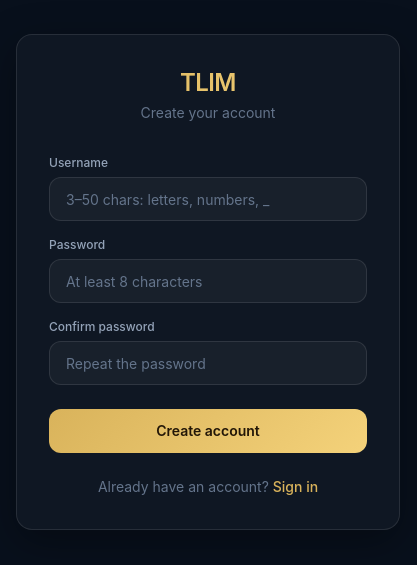
Test: RegisterPage › shows the server message (e.g. username taken)
In the field labelled "Username": [208, 199] box 49,177 -> 367,221, type "tester"
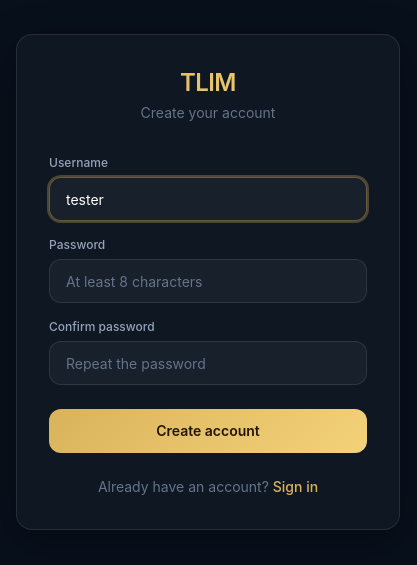
In the password field labelled "Password": [208, 281] box 49,259 -> 367,303, type "long-enough"
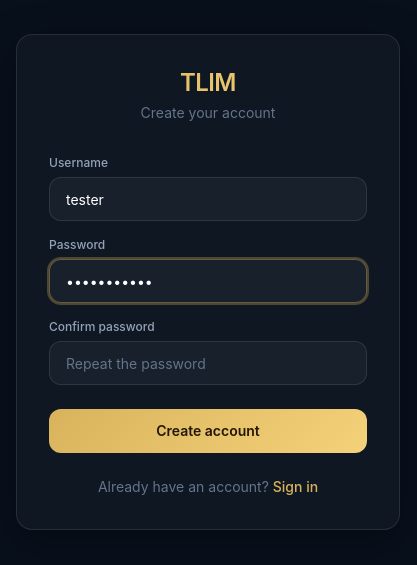
In the password field labelled "Confirm password": [208, 363] box 49,341 -> 367,385, type "long-enough"
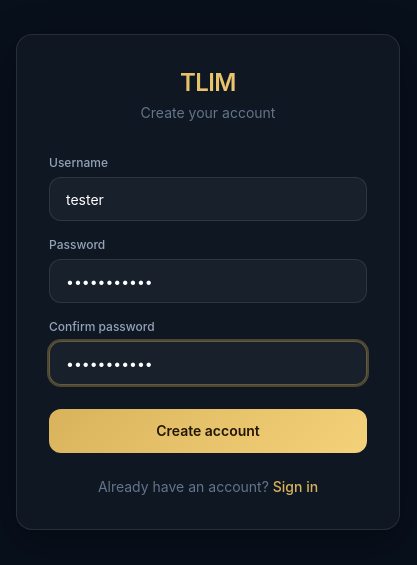
Click the button "Create account": [208, 431] box 49,409 -> 367,453
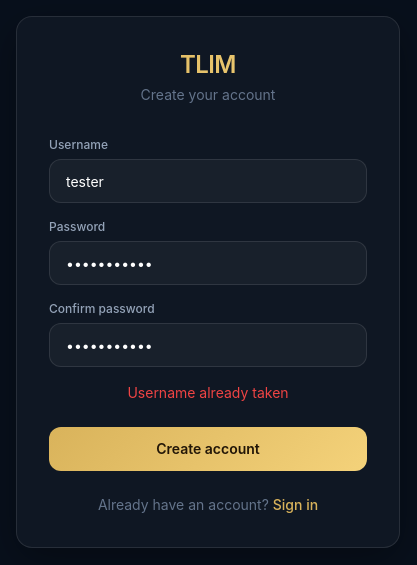
Result: the text "Username already taken" is shown at 127,384 -> 289,401
